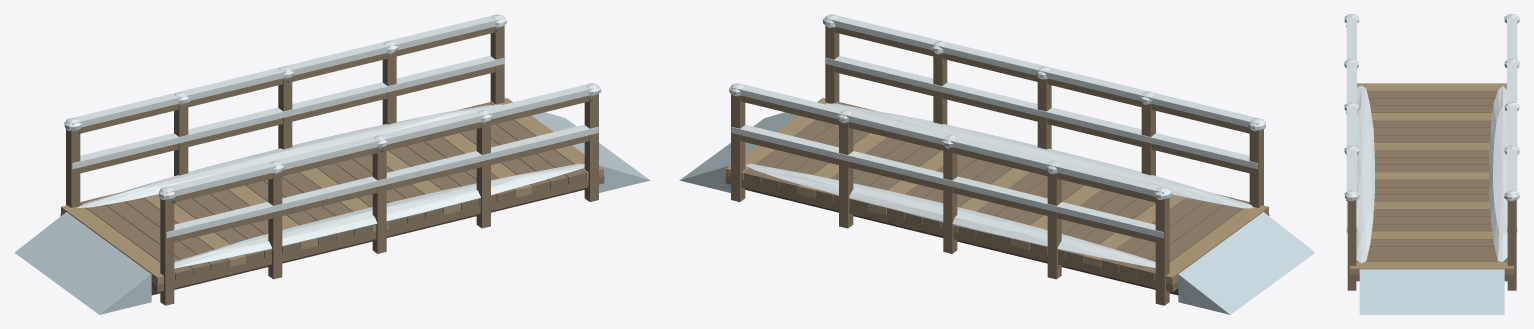
The model's file is PROP_06_WoodFootbridgeSnowy.glb.
3 views of the same model, side by side, from view 1: azimuth 30°, elevation 25°; view 2: azimuth 150°, elevation 25°; view 3: azimuth 270°, elevation 25° (orthographic). The views are drawn at different scales.
Parts seen in each view (by area): view 1: PROP_06_WoodFootbridgeSnowy; view 2: PROP_06_WoodFootbridgeSnowy; view 3: PROP_06_WoodFootbridgeSnowy.
Boxes of the visible parts, <box> form: PROP_06_WoodFootbridgeSnowy: <box>14,14,650,314</box>; PROP_06_WoodFootbridgeSnowy: <box>679,14,1315,314</box>; PROP_06_WoodFootbridgeSnowy: <box>1344,14,1519,314</box>.
Bounding box in the file's own units: 7.4 × 1.47 × 2.4.
